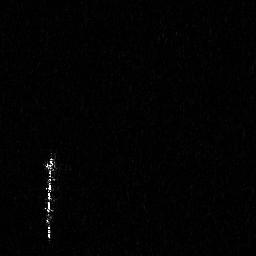ship: (40, 148, 58, 244)
